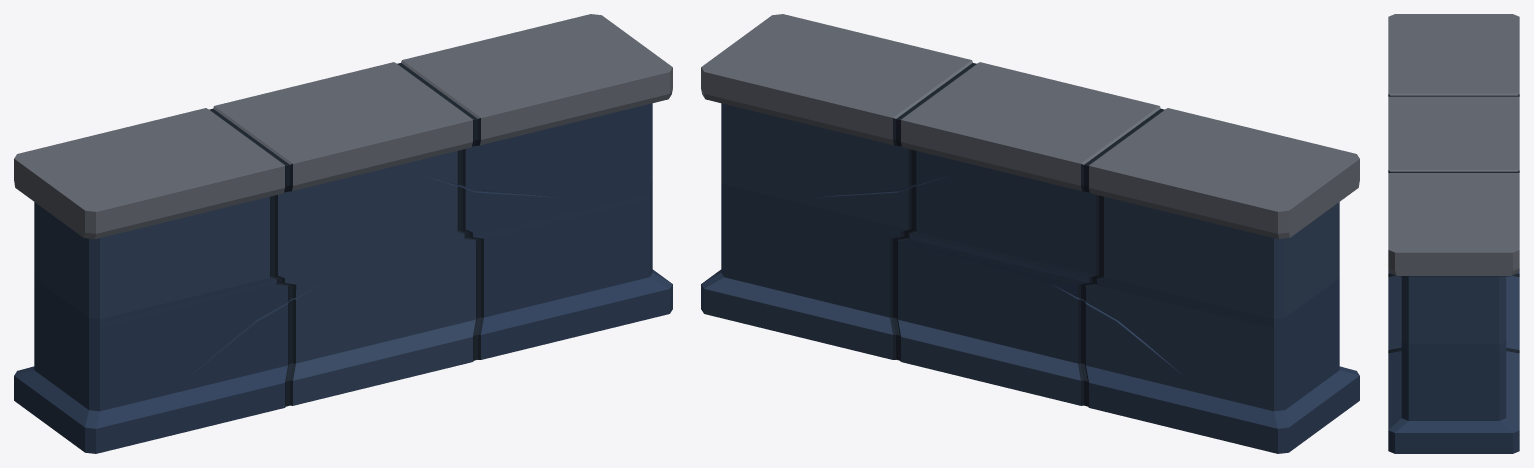
The model's file is long.glb.
3 views of the same model, side by side, from view 1: azimuth 30°, elevation 25°; view 2: azimuth 150°, elevation 25°; view 3: azimuth 270°, elevation 25° (orthographic). The views are drawn at different scales.
Parts seen in each view (by area): view 1: Framing | long masonry section; view 2: Framing | long masonry section; view 3: Framing | long masonry section.
Boxes of the visible parts, x1,y1,x2,y2 form: Framing | long masonry section: (14,14,672,453); Framing | long masonry section: (701,14,1359,453); Framing | long masonry section: (1388,14,1519,453).
Size of the model in its own units: 2.92 by 1.15 by 0.68.
